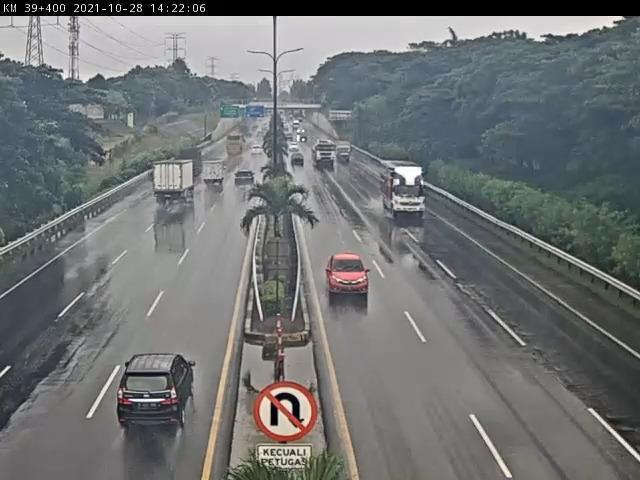car: (118, 350, 201, 429), (326, 252, 370, 292), (232, 168, 259, 192)
truck: (383, 163, 428, 216), (150, 159, 197, 205), (173, 150, 203, 181), (199, 164, 224, 191)
